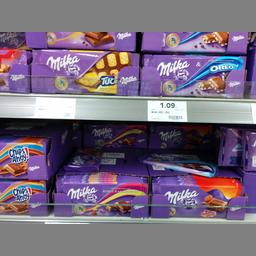chocolate: (139, 50, 248, 98), (28, 48, 138, 95), (54, 180, 148, 218), (152, 180, 243, 218), (0, 138, 49, 177), (0, 180, 48, 212)
